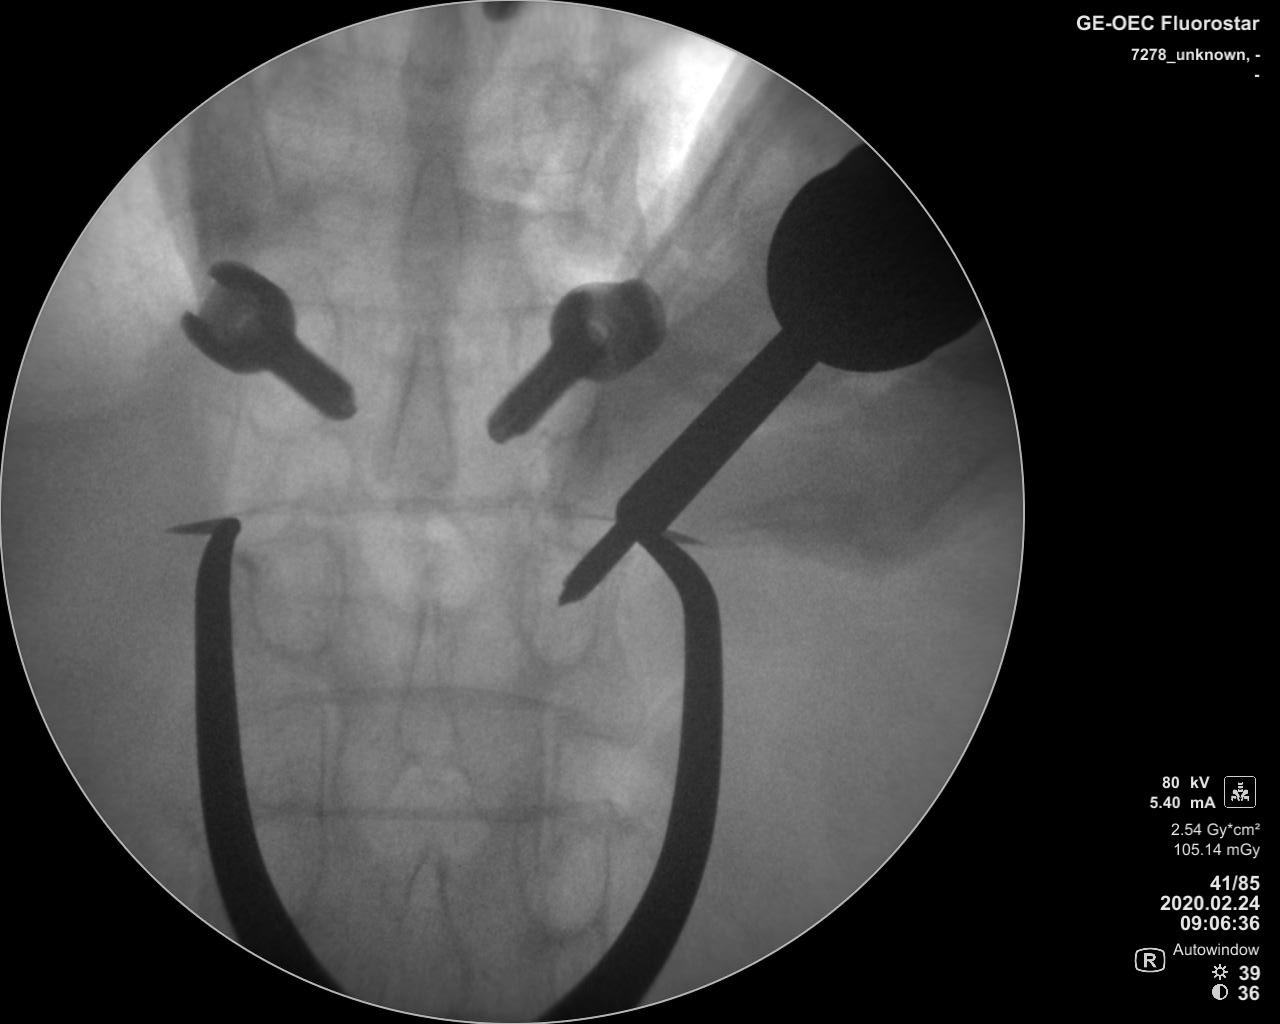eyes: (246, 525, 346, 659), (507, 534, 601, 676), (240, 303, 339, 438), (262, 74, 356, 209), (513, 813, 611, 936), (514, 61, 594, 199), (511, 312, 595, 441)
line: (232, 486, 605, 523), (248, 682, 592, 720), (263, 792, 569, 825), (295, 289, 543, 323)
nose: (383, 321, 460, 509), (392, 591, 466, 768), (390, 848, 467, 1004), (395, 140, 465, 309), (401, 7, 471, 138)
